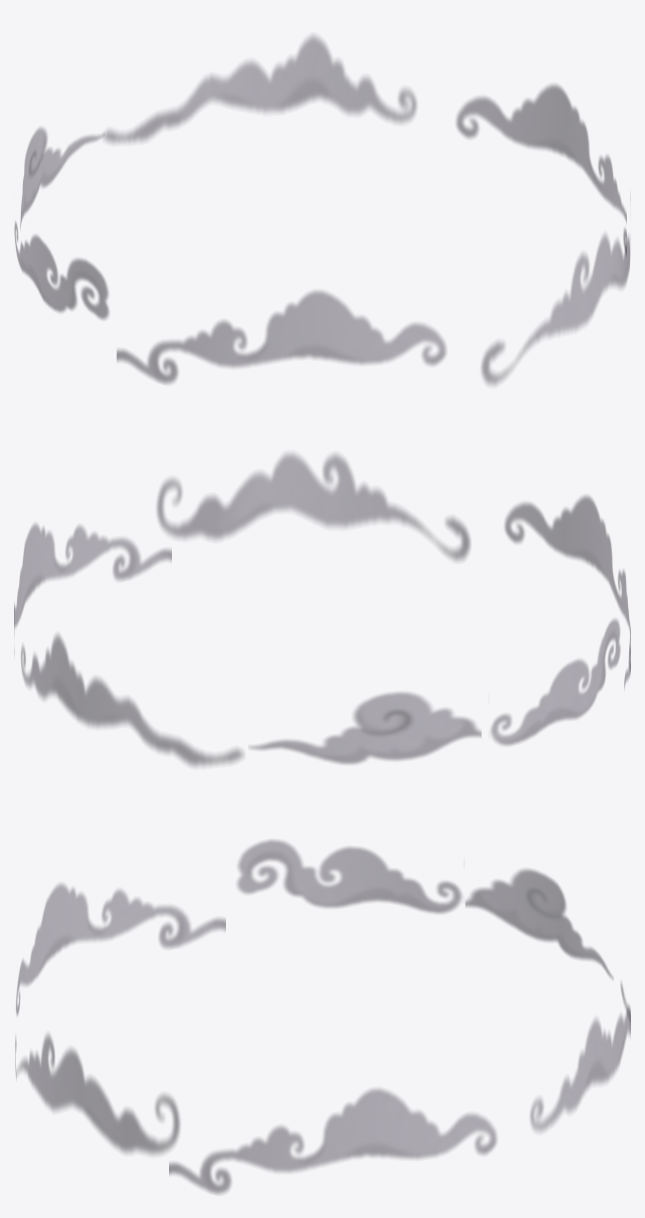
Rendered from Clouds06.glb.
The picture shows the model from 3 angles, top to bottom: view 1: azimuth 30°, elevation 25°; view 2: azimuth 150°, elevation 25°; view 3: azimuth 270°, elevation 25°; orthographic projection.
Parts seen in each view (by area): view 1: Clouds06; view 2: Clouds06; view 3: Clouds06.
Part boxes in pixels (<box>): Clouds06: <box>14,35,630,385</box>; Clouds06: <box>14,453,630,766</box>; Clouds06: <box>15,840,630,1194</box>.
Bounding box in the file's own units: 149 × 36.47 × 149.
Materials: 1 (1 with a texture image).
